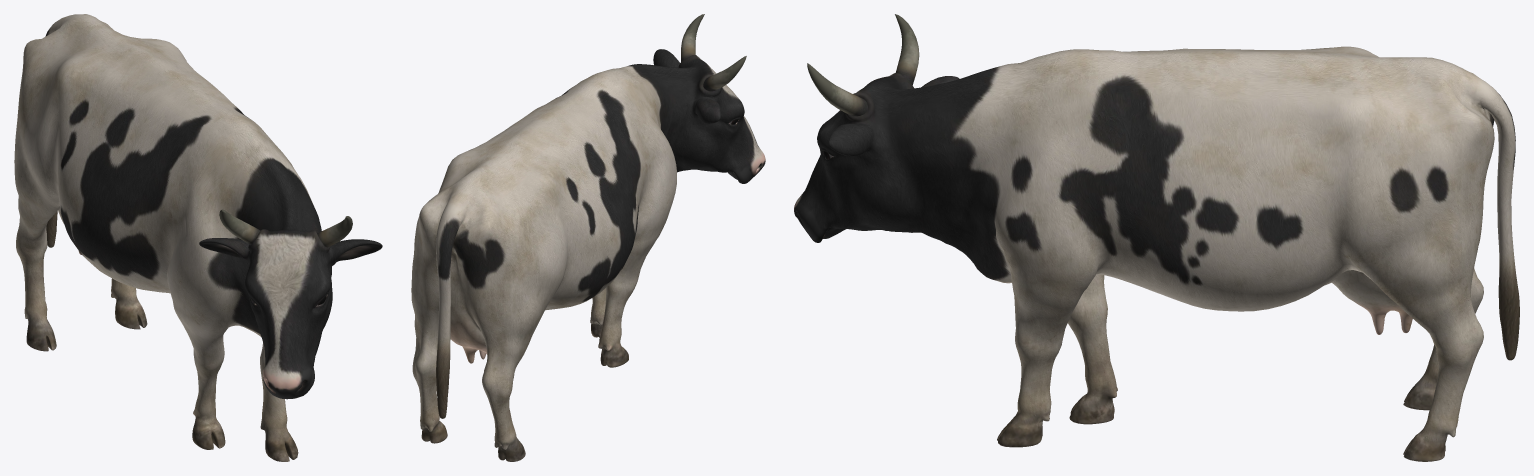
Rendered from cow.glb.
3 views of the same model, side by side, from view 1: azimuth 30°, elevation 25°; view 2: azimuth 150°, elevation 25°; view 3: azimuth 270°, elevation 25° (orthographic). The views are drawn at different scales.
Visible parts, largest first — view 1: Object_5; view 2: Object_5; view 3: Object_5.
Boxes of the visible parts, <box> form: Object_5: <box>14,14,382,461</box>; Object_5: <box>411,14,765,461</box>; Object_5: <box>794,14,1519,461</box>.
Bounding box in the file's own units: 0.2991 × 0.512 × 0.8927.
Materials: 1 (1 with a texture image).
